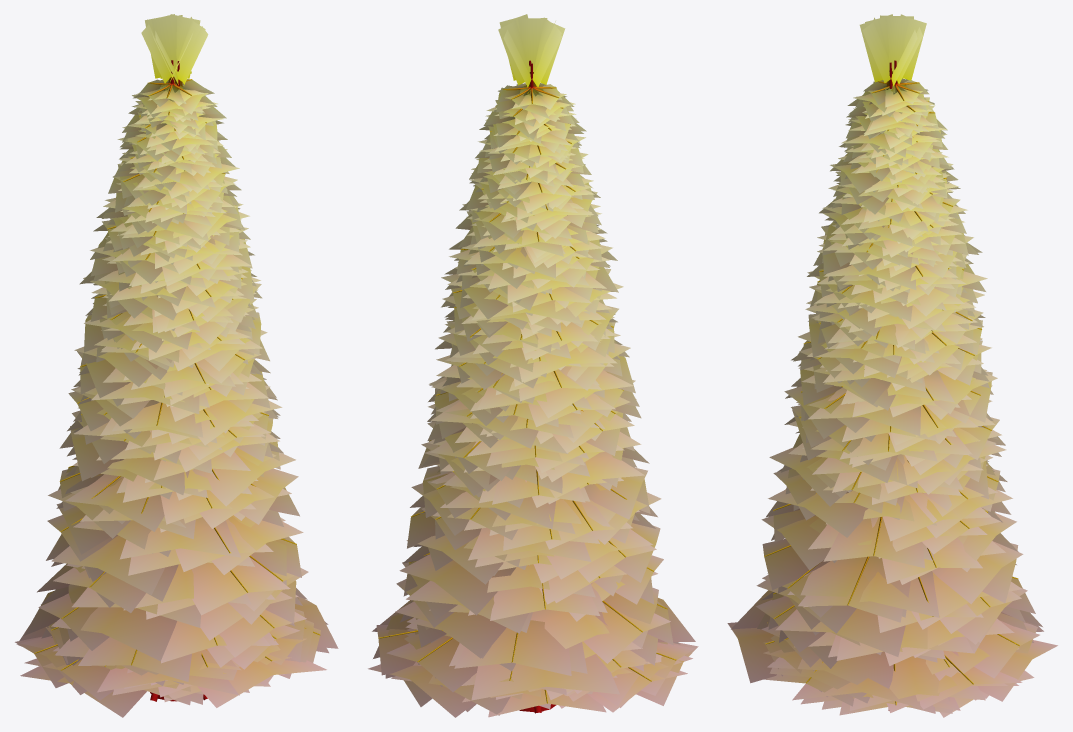
Rendered from fir.glb.
The picture shows the model from 3 angles, left to right: view 1: azimuth 30°, elevation 25°; view 2: azimuth 150°, elevation 25°; view 3: azimuth 270°, elevation 25°; orthographic projection.
Visible parts, largest first — view 1: fir-0_LOD0, fir-hero_LOD0, fir-1_LOD0; view 2: fir-0_LOD0, fir-hero_LOD0, fir-1_LOD0; view 3: fir-0_LOD0, fir-hero_LOD0, fir-1_LOD0.
Boxes of the visible parts, x1=… form: fir-0_LOD0: x1=20, y1=14, x2=338, y2=717; fir-hero_LOD0: x1=15, y1=14, x2=320, y2=705; fir-1_LOD0: x1=16, y1=15, x2=328, y2=704; fir-0_LOD0: x1=368, y1=17, x2=698, y2=717; fir-hero_LOD0: x1=376, y1=18, x2=694, y2=717; fir-1_LOD0: x1=395, y1=14, x2=692, y2=711; fir-0_LOD0: x1=727, y1=15, x2=1057, y2=712; fir-hero_LOD0: x1=756, y1=14, x2=1043, y2=715; fir-1_LOD0: x1=757, y1=16, x2=1034, y2=717.
Bounding box in the file's own units: 7.21 × 16.31 × 7.32.
